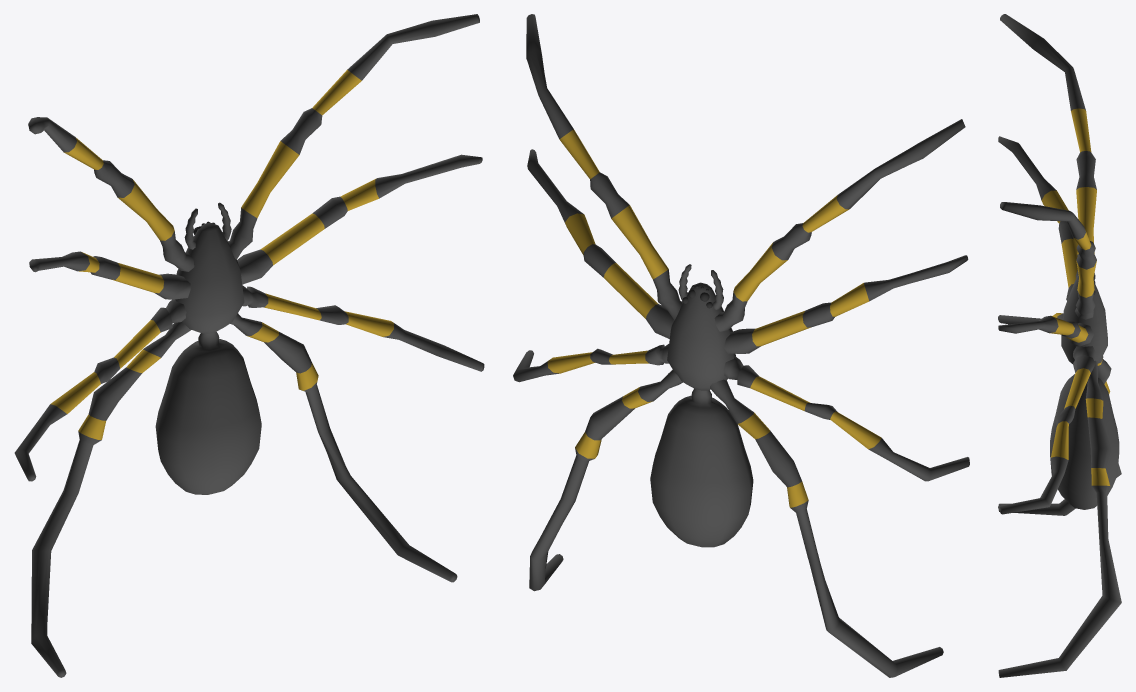
The model's file is spider_basic.glb.
The picture shows the model from 3 angles, left to right: view 1: azimuth 30°, elevation 25°; view 2: azimuth 150°, elevation 25°; view 3: azimuth 270°, elevation 25°; orthographic projection. The views are drawn at different scales.
Visible parts, largest first — view 1: 1.073, 2.039; view 2: 1.073, 2.039; view 3: 1.073, 2.039.
Boxes of the visible parts, x1=… form: 1.073: x1=14, y1=14, x2=484, y2=677; 2.039: x1=50, y1=69, x2=393, y2=439; 1.073: x1=513, y1=14, x2=969, y2=677; 2.039: x1=547, y1=129, x2=881, y2=507; 1.073: x1=998, y1=14, x2=1121, y2=677; 2.039: x1=1041, y1=108, x2=1110, y2=485.
Size of the model in its own units: 0.2977 by 0.3484 by 0.0803.
